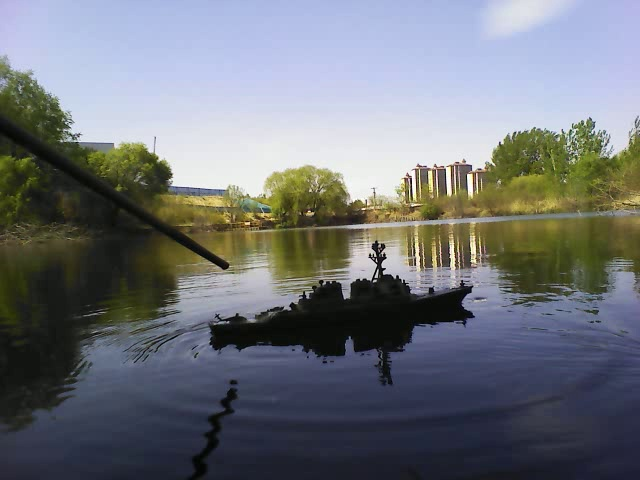warship: (203, 237, 479, 341)
